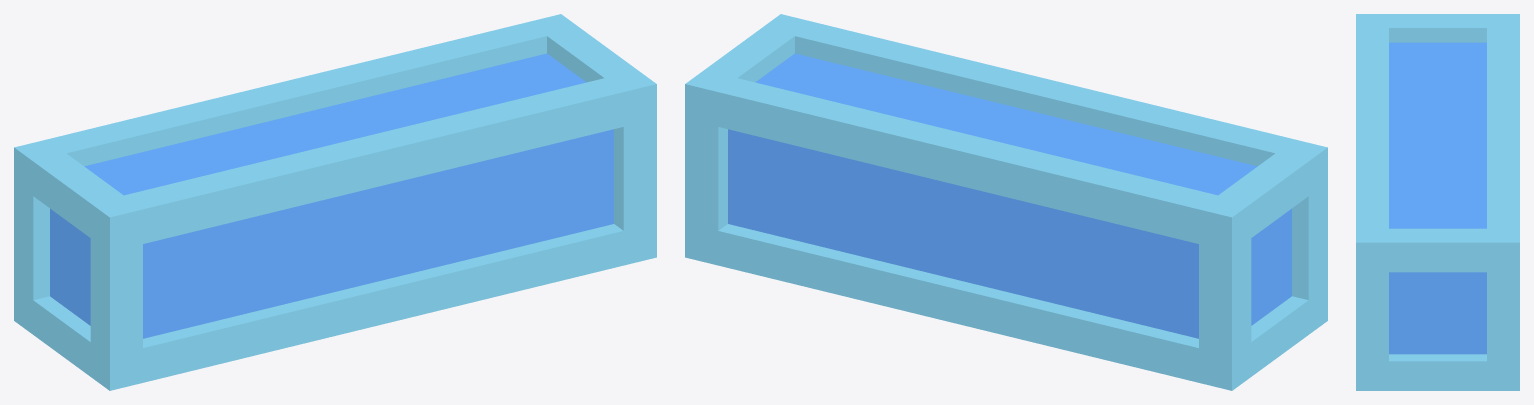
File: 超级激光弹.gltf
3 renders of one model, left to right at view 1: azimuth 30°, elevation 25°; view 2: azimuth 150°, elevation 25°; view 3: azimuth 270°, elevation 25°, orthographic. The views are drawn at different scales.
Parts seen in each view (by area): view 1: Object; view 2: Object; view 3: Object.
Boxes of the visible parts, bbox=[...] form: Object: bbox=[14, 14, 656, 390]; Object: bbox=[685, 14, 1327, 390]; Object: bbox=[1356, 14, 1519, 390].
Bounding box in the file's own units: 33 × 10 × 10.
1 material, 1 textured.
